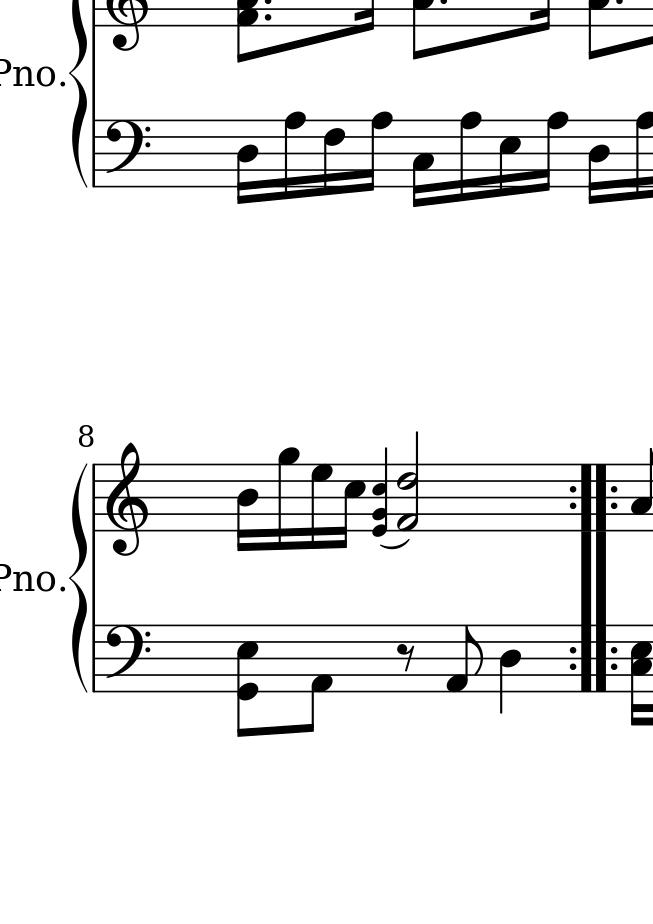16_3: (410, 118, 434, 209)
16_3_5: (629, 623, 653, 727)
16_4: (234, 462, 259, 552), (234, 118, 259, 205), (586, 118, 611, 205)
16_5: (335, 464, 366, 551), (497, 118, 522, 198)
16_6: (321, 117, 346, 198)
16_7: (308, 460, 333, 552)
16_8: (359, 111, 393, 193), (535, 111, 569, 193), (457, 110, 482, 205), (281, 110, 306, 202), (634, 110, 652, 203)
16_9: (275, 446, 299, 553)
2_1_6: (397, 432, 420, 534)
4_3: (629, 448, 652, 532)
4_4: (498, 625, 522, 715)
8: (77, 421, 95, 449)
8_0_5: (236, 623, 262, 738)
8_1: (301, 622, 333, 733), (444, 623, 484, 693)
Brace: (69, 461, 88, 700)
Fclef: (101, 117, 150, 188), (102, 622, 150, 693)
Gclef: (103, 440, 149, 558)
Pno: (1, 57, 56, 90), (1, 562, 56, 595)
Rests8: (395, 642, 417, 673)
RightAndLeftRepeatSign: (565, 464, 621, 532), (564, 626, 620, 692)
Single_barline: (88, 626, 102, 691), (88, 466, 102, 530), (88, 121, 102, 184)
dot: (261, 10, 274, 24)
